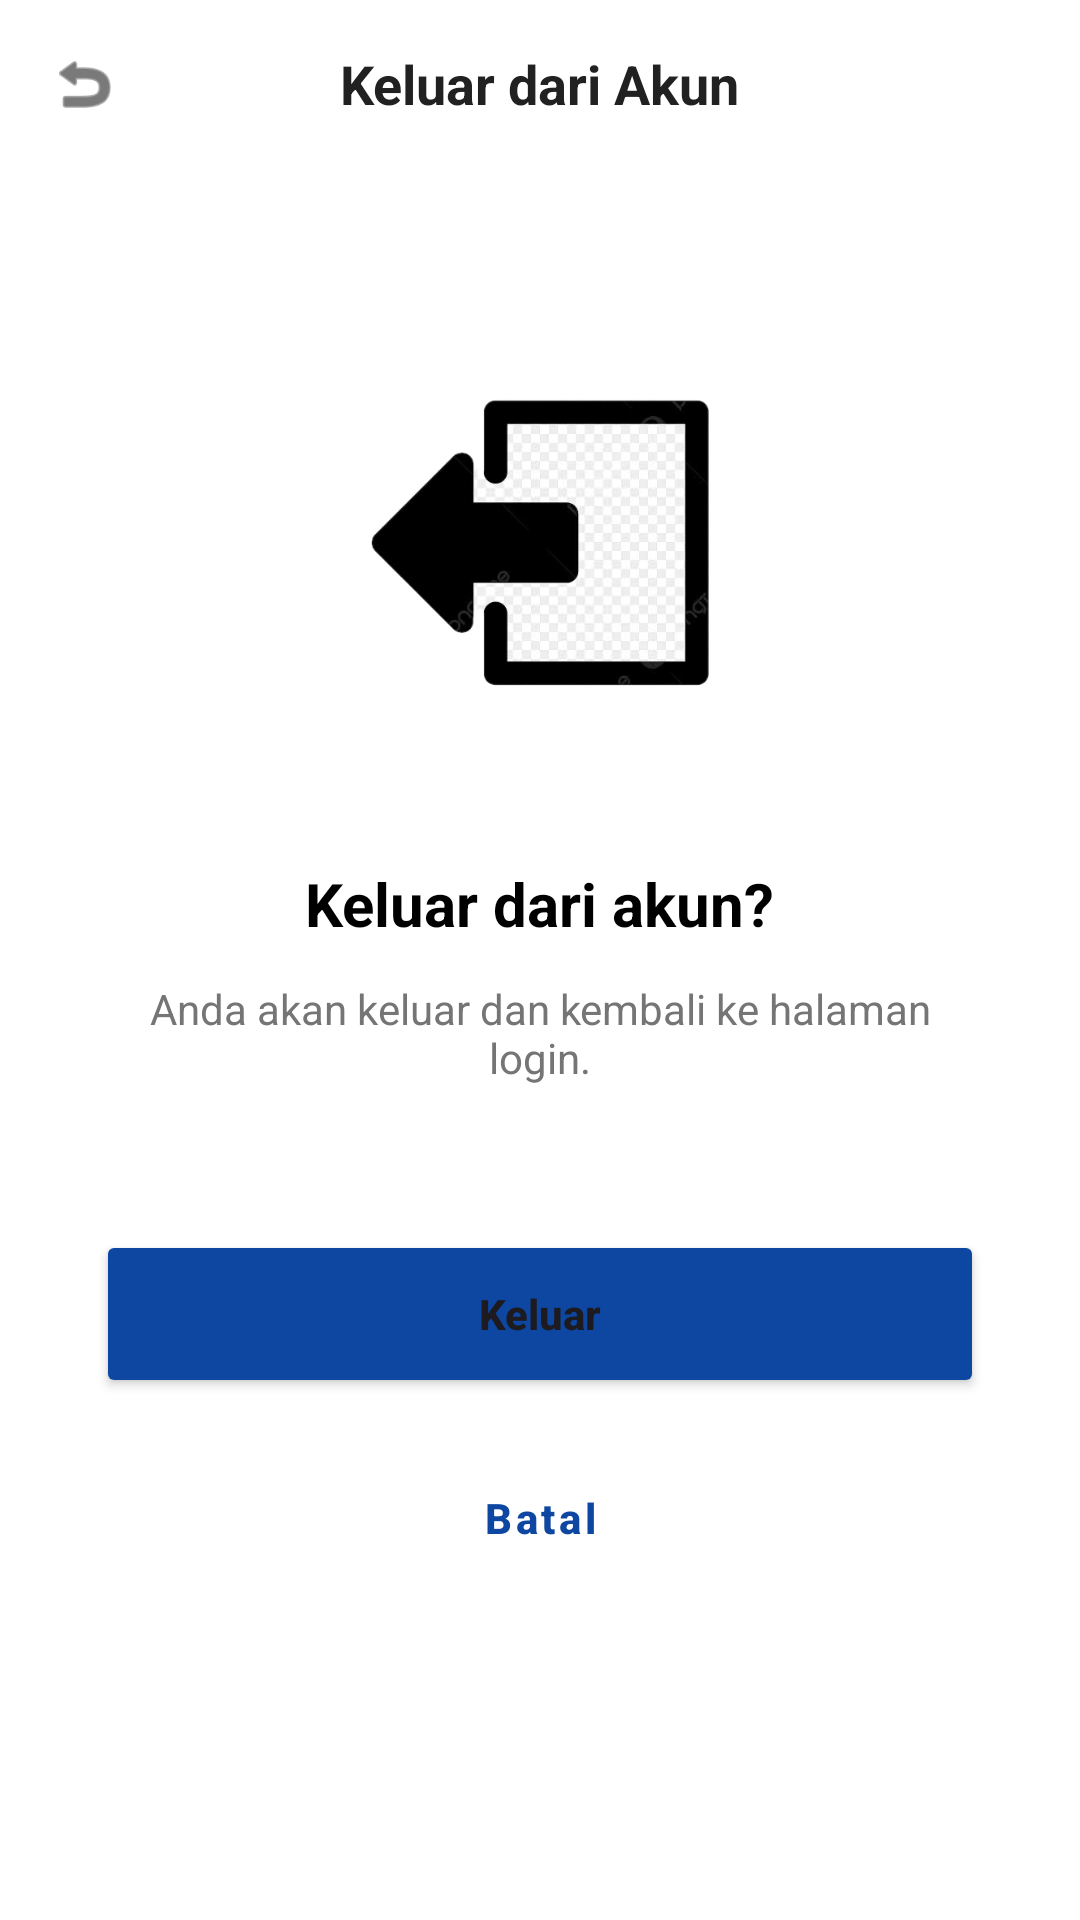

Where icons sit on this 1080 × 1920 app screen, as [x1=x1, y1=y1, x2=x2, y2=y2]:
Back: [x1=59, y1=61, x2=111, y2=108]
